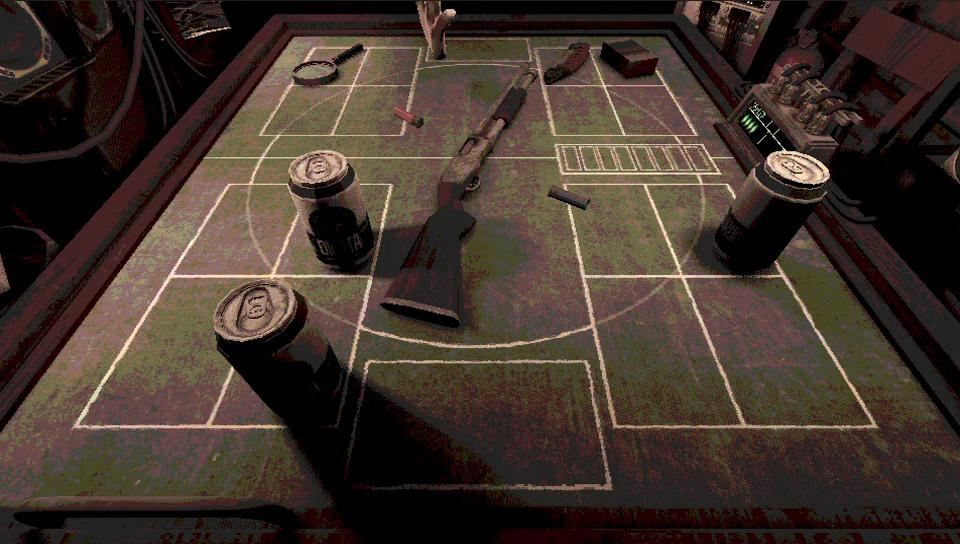ally: (0, 155, 959, 525)
can: (215, 279, 347, 428), (708, 151, 830, 274), (286, 149, 376, 270)
cigar: (599, 38, 657, 78)
doubledamage: (541, 42, 590, 84)
emptyspace: (74, 270, 276, 427), (686, 275, 878, 428), (584, 276, 747, 427), (170, 180, 313, 279), (566, 182, 685, 279), (261, 83, 350, 135), (609, 84, 698, 136), (331, 83, 411, 137), (544, 85, 627, 134), (350, 48, 424, 88)
enemyspace: (204, 28, 758, 158)
gun: (380, 62, 539, 328)
lens: (292, 42, 364, 84)
